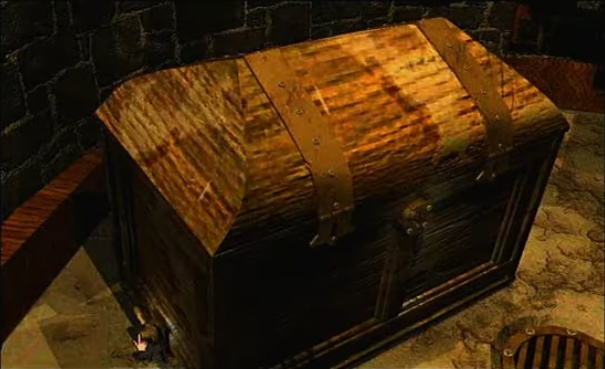Pointer: (129, 330, 151, 353)
